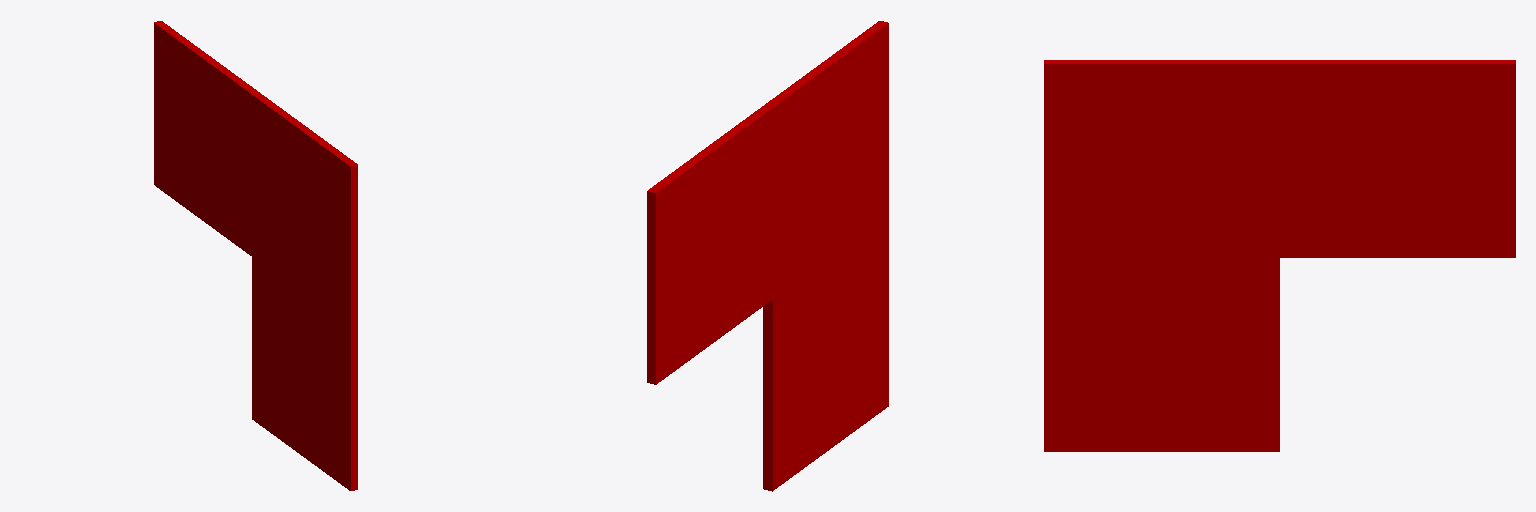
robot.urdf — xarm6:
<?xml version="1.0" encoding="utf-8"?>
<!-- =================================================================================== -->
<!-- |    This document was autogenerated by xacro from xarm6_robot.urdf.xacro         | -->
<!-- |    EDITING THIS FILE BY HAND IS NOT RECOMMENDED                                 | -->
<!-- =================================================================================== -->
<robot name="xarm6">

    <!--
      Material colors
    -->

    <!-- Basic colors -->
  <material name="Black">
    <color rgba="0.0 0.0 0.0 1.0"/>
  </material>
  <material name="Red">
    <color rgba="0.8 0.0 0.0 1.0"/>
  </material>
  <material name="White">
    <color rgba="1.0 1.0 1.0 1.0"/>
  </material>
  <material name="Silver">
    <color rgba="0.753 0.753 0.753 1.0"/>
  </material>

    <!--
    Base
  -->

  <!-- Base link -->
  <link name="world"/>
  <joint name="world_joint" type="fixed">
    <parent link="world"/>
    <child link="allegro_root0"/>
    <origin rpy="0 0 0" xyz="0 0 0"/>
  </joint>


  <link name="allegro_root0">
    <inertial>
      <origin rpy="0 0 0" xyz="0 0 0"/>
      <mass value="4.00000"/>
      <inertia ixx="1e-4" ixy="0" ixz="0" iyy="1e-4" iyz="0" izz="1e-4"/>
    </inertial>
  </link>
    <link name="allegro_root1">
    <inertial>
      <mass value="0.05"/>
      <inertia ixx="1e-4" ixy="0.0" ixz="0.0" iyy="1e-4" iyz="0.0" izz="1e-4"/>
    </inertial>
  </link>
  <link name="allegro_root2">
    <inertial>
      <mass value="0.05"/>
      <inertia ixx="1e-4" ixy="0.0" ixz="0.0" iyy="1e-4" iyz="0.0" izz="1e-4"/>
    </inertial>
  </link>
    <link name="allegro_root3">
    <inertial>
      <mass value="0.05"/>
      <inertia ixx="1e-4" ixy="0.0" ixz="0.0" iyy="1e-4" iyz="0.0" izz="1e-4"/>
    </inertial>
  </link>
  <link name="allegro_root4">
    <inertial>
      <mass value="0.05"/>
      <inertia ixx="1e-4" ixy="0.0" ixz="0.0" iyy="1e-4" iyz="0.0" izz="1e-4"/>
    </inertial>
  </link>
  <link name="allegro_root5">
    <inertial>
      <mass value="0.05"/>
      <inertia ixx="1e-4" ixy="0.0" ixz="0.0" iyy="1e-4" iyz="0.0" izz="1e-4"/>
    </inertial>
  </link>
  
  <joint name="x_joint" type="prismatic">
    <parent link="allegro_root0"/>
    <child link="allegro_root1"/>
    <axis xyz="1 0 0"/>
    <limit effort="100" lower="-50.0" upper="50.0" velocity="20"/>
  </joint>
  <joint name="y_joint" type="prismatic">
    <parent link="allegro_root1"/>
    <child link="allegro_root2"/>
    <axis xyz="0 1 0"/>
    <limit effort="100" lower="-50.0" upper="50.0" velocity="20"/>
  </joint>
  <joint name="z_joint" type="prismatic">
    <parent link="allegro_root2"/>
    <child link="allegro_root3"/>
    <axis xyz="0 0 1"/>
    <limit effort="100" lower="-50.0" upper="50.0" velocity="20"/>
  </joint>

  <joint name="x_rotation_joint" type="revolute">
    <parent link="allegro_root3"/>
    <child link="allegro_root4"/>
    <axis xyz="1 0 0"/>
    <limit effort="100" lower="-6.28" upper="6.28" velocity="20"/>
  </joint>
  <joint name="y_rotation_joint" type="revolute">
    <parent link="allegro_root4"/>
    <child link="allegro_root5"/>
    <axis xyz="0 1 0"/>
    <limit effort="100" lower="-6.28" upper="6.28" velocity="20"/>
  </joint>
  <joint name="z_rotation_joint" type="revolute">
    <parent link="allegro_root5"/>
    <child link="palm_link"/>
    <axis xyz="0 0 1"/>
    <!-- <origin rpy="-0.00000 -0.00000 0" xyz="0 0 0"/> -->
    <limit effort="100" lower="-6.28" upper="6.28" velocity="20"/>
  </joint>

  <link name="palm_link">
    <inertial>
      <mass value="0.4167"/>
      <origin rpy="0 0 0" xyz="0 0 0"/>
      <inertia ixx="1e-4" ixy="0" ixz="0" iyy="1e-4" iyz="0" izz="1e-4"/>
    </inertial>
    <visual>
      <geometry>
        <mesh filename="meshes/palm_link.obj"/>
      </geometry>
      <origin rpy="0 0 0" xyz="0 0 0 "/>
      <material name="Grey">
        <color rgba="0.2 0.2 0.2 1"/>
      </material>
    </visual>
    <collision>
      <origin rpy="0.0 0 0" xyz="0 0 0"/>
      <geometry>
        <mesh filename="meshes/palm_link.obj"/>
      </geometry>
    </collision>
  </link>

  <link name="contact_sensor1">
    <inertial>
      <mass value="0.0001"/>
      <origin rpy="0 0 0" xyz="0 0 0"/>
      <inertia ixx="1e-4" ixy="0" ixz="0" iyy="1e-4" iyz="0" izz="1e-4"/>
    </inertial>
    <visual>
      <geometry>
        <mesh filename="meshes/contact_palm.obj"/>
      </geometry>
      <origin rpy="0 0 0" xyz="0.0125 0.025 -0.065"/>
      <material name="Red">
        <color rgba="0.8 0.0 0.0 1.0"/>
      </material>
    </visual>
  </link>

  <joint name="contact_sensor1_attach" type="fixed">
    <parent link="palm_link"/>
    <child link="contact_sensor1"/>
    <origin rpy="0 0 0" xyz="0 0 0.0423"/>
  </joint>

    <link name="contact_sensor2">
    <inertial>
      <mass value="0.0001"/>
      <origin rpy="0 0 0" xyz="0 0 0"/>
      <inertia ixx="1e-4" ixy="0" ixz="0" iyy="1e-4" iyz="0" izz="1e-4"/>
    </inertial>
    <visual>
      <geometry>
        <mesh filename="meshes/contact_palm.obj"/>
      </geometry>
      <origin rpy="0 0 0" xyz="0.0125 -0.019 -0.065"/>
      <material name="Red">
        <color rgba="0.8 0.0 0.0 1.0"/>
      </material>
    </visual>
  </link>

  <joint name="contact_sensor2_attach" type="fixed">
    <parent link="palm_link"/>
    <child link="contact_sensor2"/>
    <origin rpy="0 0 0" xyz="0 0 0.0423"/>
  </joint>

    <link name="contact_sensor3">
    <inertial>
      <mass value="0.0001"/>
      <origin rpy="0 0 0" xyz="0 0 0"/>
      <inertia ixx="1e-4" ixy="0" ixz="0" iyy="1e-4" iyz="0" izz="1e-4"/>
    </inertial>
    <visual>
      <geometry>
        <mesh filename="meshes/contact_palm.obj"/>
      </geometry>
      <origin rpy="0 0 0" xyz="0.0125 -0.019 -0.105"/>
      <material name="Red">
        <color rgba="0.8 0.0 0.0 1.0"/>
      </material>
    </visual>
  </link>

  <joint name="contact_sensor3_attach" type="fixed">
    <parent link="palm_link"/>
    <child link="contact_sensor3"/>
    <origin rpy="0 0 0" xyz="0 0 0.0423"/>
  </joint>

  <!-- ============================================================================= -->
  <!-- FINGERS -->
  <!-- RIGHT HAND due to which finger is number 0 -->
  <!-- for LEFT HAND switch the sign of the **offset_origin_y** and **finger_angle_r** parameters-->
  <link name="thumb_base">
    <visual>
      <geometry>
        <mesh filename="meshes/thumb_base.STL"/>
      </geometry>
      <material name="black">
        <color rgba=".2 .2 .2 1"/>
      </material>
    </visual>
    <collision>
      <geometry>
        <mesh filename="meshes/thumb_base.STL"/>
      </geometry>
    </collision>
    <inertial>
      <mass value="0.0798"/>
      <inertia ixx="5.1458e-5" ixy="0" ixz="0" iyy="5.1458e-5" iyz="0" izz="6.125e-5"/>
    </inertial>
  </link>
  <joint name="thumb_base" type="revolute">
    <axis xyz="-1 0 0"/>
    <limit effort="15" lower="0.36" upper="1.496" velocity="7"/>
    <parent link="palm_link"/>
    <child link="thumb_base"/>
    <origin rpy="0 -1.65806278845 -1.5707963259" xyz="-0.0182 0.019333 -0.045987"/>
    <dynamics damping="0.0001" friction="0.035"/>
  </joint>
  <link name="thumb_proximal">
    <visual>
      <geometry>
        <mesh filename="meshes/thumb_proximal.STL"/>  
      </geometry>
      <material name="black">
        <color rgba=".2 .2 .2 1"/>
      </material>
    </visual>
    <collision>
      <geometry>
        <mesh filename="meshes/thumb_proximal.STL"/>  
      </geometry>
    </collision>
    <inertial>
      <mass value="0.0114"/>
      <origin rpy="0 0 0" xyz="0 0 0"/>
      <inertia ixx="4.24250866667e-06" ixy="1.032087e-06" ixz="1.603525e-06" iyy="4.52362633333e-06" iyz="1.44808125e-06" izz="4.24250866667e-06"/>
    </inertial>
  </link>
  <joint name="thumb_proximal" type="revolute">
    <axis xyz="0 0 1"/>
    <limit effort="15" lower="-0.204" upper="1.263" velocity="7"/>
    <parent link="thumb_base"/>
    <child link="thumb_proximal"/>
    <origin xyz="-0.027 0.005 0.0399"/>
      <dynamics damping="0.0001" friction="0.035"/>
  </joint>
  <!-- [LINK 14] -->
  <link name="thumb_medial">
    <visual>
      <geometry>
        <mesh filename="meshes/thumb_medial.STL"/>
      </geometry>
      <material name="black">
        <color rgba=".2 .2 .2 1"/>
      </material>
    </visual>
    <collision>
      <geometry>
        <mesh filename="meshes/thumb_medial.STL"/>
      </geometry>
    </collision>
    <inertial>
      <mass value="0.0402"/>
      <origin rpy="0 0 0" xyz="0 0 0"/>
      <inertia ixx="4.30439933333e-05" ixy="9.57068e-06" ixz="5.1205e-06" iyy="1.44451933333e-05" iyz="1.342825e-05" izz="4.30439933333e-05"/>
    </inertial>
  </link>
  <joint name="thumb_medial" type="revolute">
    <axis xyz="0 1 0"/>
    <limit effort="15" lower="-0.289" upper="1.744" velocity="7"/>
    <parent link="thumb_proximal"/>
    <child link="thumb_medial"/>
    <origin xyz="0 0 0.0177"/>
      <dynamics damping="0.0001" friction="0.035"/>
  </joint>
  <!-- [LINK 15] -->
  <link name="thumb_distal">
    <visual>
      <geometry>
        <mesh filename="meshes/thumb_distal.STL"/>
      </geometry>
      <material name="black">
        <color rgba=".2 .2 .2 1"/>
      </material>
    </visual>
    <collision>
      <geometry>
        <mesh filename="meshes/thumb_distal.STL"/>
      </geometry>
    </collision>
    <inertial>
      <mass value="0.0408"/>
      <origin rpy="0 0 0" xyz="0 0 0"/>
      <inertia ixx="3.29223173333e-05" ixy="8.042076e-06" ixz="5.2283e-06" iyy="1.47493026667e-5" iyz="1.1283525e-5" izz="3.29223173333e-05"/>
    </inertial>
  </link>
  <joint name="thumb_distal" type="revolute">
    <axis xyz="0 1 0"/>
    <limit effort="15" lower="-0.26" upper="1.819" velocity="7"/>
    <parent link="thumb_medial"/>
    <child link="thumb_distal"/>
    <origin xyz="0 0 0.0514"/>
      <dynamics damping="0.0001" friction="0.035"/>
  </joint>
  <!-- [FINGER TIP] -->
  <link name="thumb_tip">
    <visual>
      <geometry>
        <mesh filename="meshes/thumb_tip.STL"/>
      </geometry>
      <material name="white">
        <color rgba=".9 .9 .9 1"/>
      </material>
    </visual>
    <collision>
      <geometry>
        <sphere radius="0.0145"/>
      </geometry>
    </collision>
    <inertial>
      <mass value="0.0166"/>
      <origin rpy="0 0 0" xyz="0 0 0"/>
      <inertia ixx="9.68e-07" ixy="0" ixz="0" iyy="9.68e-07" iyz="0" izz="9.68e-07"/>
    </inertial>
  </link>
  <joint name="thumb_tip" type="fixed">
    <parent link="thumb_distal"/>
    <child link="thumb_tip"/>
    <origin rpy="0 0 0" xyz="0 0 0.0423"/>
  </joint>
  <link name="index_base">
    <visual>
      <geometry>
        <mesh filename="meshes/primary_base.STL"/>
      </geometry>
      <material name="black"/>
    </visual>
    <collision>
      <geometry>
        <mesh filename="meshes/primary_base.STL"/>
      </geometry>
    </collision>
    <inertial>
      <mass value="0.0114"/>
      <origin xyz="0 0 0"/>
      <inertia ixx="5.1458e-05" iyy="5.1458e-05" izz="6.125e-05" ixy="0" ixz="0" iyz="0"/>	
    </inertial>
  </link>
  <joint name="index_base" type="revolute">
    <axis xyz="0 0 1"/>
    <limit effort="15" lower="-0.57" upper="0.57" velocity="7"/>
    <parent link="palm_link"/>
    <child link="index_base"/>
    <origin rpy="-0.08726646255 0 0" xyz="0 0.0435 -0.001542"/> 
      <dynamics damping="0.0001" friction="0.035"/>
  </joint>
  <!-- [LINK 1, 5, 9] -->
  <link name="index_proximal">
    <visual>
      <geometry>
        <mesh filename="meshes/primary_proximal.STL"/>
      </geometry>
      <material name="black"/>
    </visual>
    <collision>
      <geometry>
        <mesh filename="meshes/primary_proximal.STL"/>
      </geometry>
      <origin rpy="0 0 0" xyz="0 0 0.027"/>
    </collision>
    <inertial>
      <mass value="0.0712"/>
      <origin xyz="0.027 0 0"/>
      <inertia ixx="6.39979e-06" iyy="8.88687e-05" izz="9.13751e-05" ixy="-3.26531e-06" ixz="1.23963e-05" iyz="2.07384e-05"/>	
    </inertial>
  </link>
  <joint name="index_proximal" type="revolute">
    <limit effort="15" lower="-0.296" upper="1.71" velocity="7"/>
    <axis xyz="0 1 0"/>
    <parent link="index_base"/>
    <child link="index_proximal"/>
    <origin xyz="0 0 0.0164"/>
      <dynamics damping="0.0001" friction="0.035"/>
  </joint>
  <!-- [LINK 2, 6, 10]-->
  <link name="index_medial">
    <visual>
      <geometry>
        <mesh filename="meshes/primary_medial.STL"/>
      </geometry>
      <material name="black"/>
    </visual>
    <collision>
      <geometry>
        <mesh filename="meshes/primary_medial.STL"/>
      </geometry>
    </collision>
    <inertial>
      <mass value="0.0376"/>
      <origin xyz="0.039 0 0"/>
      <inertia ixx="7.04217e-05" iyy="3.95744e-05" izz="6.61125e-05" ixy="-9.64342e-05" ixz="5.8796e-05" iyz="-3.62996e-05"/>	
    </inertial>
  </link>
  <joint name="index_medial" type="revolute">
    <axis xyz="0 1 0"/>
    <limit effort="15" lower="-0.274" upper="1.809" velocity="7"/>
    <parent link="index_proximal"/>
    <child link="index_medial"/>
    <origin xyz="0 0 0.054"/>
      <dynamics damping="0.0001" friction="0.035"/>
  </joint>
  <link name="index_distal">
    <visual>
      <geometry>
        <mesh filename="meshes/primary_distal.STL"/>
      </geometry>
      <material name="black"/>
    </visual>
    <collision>
      <geometry>
        <mesh filename="meshes/primary_distal.STL"/>
      </geometry>
    </collision>
    <inertial>
      <mass value="0.0094"/>
      <origin xyz="0.039 0 0"/>
      <inertia ixx="7.04217e-05" iyy="3.95744e-05" izz="6.61125e-05" ixy="-9.64342e-05" ixz="5.8796e-05" iyz="-3.62996e-05"/>	
    </inertial>
  </link>
  <joint name="index_distal" type="revolute">
    <axis xyz="0 1 0"/>
    <limit effort="15" lower="-0.327" upper="1.718" velocity="7"/>
    <parent link="index_medial"/>
    <child link="index_distal"/>
    <origin xyz="0 0 0.0384"/>
      <dynamics damping="0.0001" friction="0.035"/>
  </joint>
  <!-- [FINGER TIP] -->
  <link name="index_tip">
    <visual>
      <geometry>
        <mesh filename="meshes/primary_tip.STL"/>
      </geometry>
      <material name="white">
        <color rgba=".9 .9 .9 1"/>
      </material>
    </visual>
    <collision>
      <geometry>
        <sphere radius="0.015"/>  
      </geometry>
    </collision>
    <inertial>
      <mass value="0.0166"/>
      <origin rpy="0 0 0" xyz="0 0 0"/>
      <inertia ixx="9.68e-07" ixy="0" ixz="0" iyy="9.68e-07" iyz="0" izz="9.68e-07"/>
    </inertial>
  </link>  <!-- need to be fixed later-->
  <joint name="index_tip" type="fixed">
    <parent link="index_distal"/>
    <child link="index_tip"/>
    <origin rpy="0 0 0" xyz="0 0 0.0267"/>
  </joint>
  <!-- [LINK 0, 4, 8] -->
  <link name="middle_base">
    <visual>
      <geometry>
        <mesh filename="meshes/primary_base.STL"/>
      </geometry>
      <material name="black"/>
    </visual>
    <collision>
      <geometry>
        <mesh filename="meshes/primary_base.STL"/>
      </geometry>
    </collision>
    <inertial>
      <mass value="0.0114"/>
      <origin xyz="0 0 0"/>
      <inertia ixx="5.1458e-05" iyy="5.1458e-05" izz="6.125e-05" ixy="0" ixz="0" iyz="0"/>	
    </inertial>
  </link>
  <joint name="middle_base" type="revolute">
    <axis xyz="0 0 1"/>
    <limit effort="15" lower="-0.57" upper="0.57" velocity="7"/>
    <parent link="palm_link"/>
    <child link="middle_base"/>
    <dynamics damping="0.0414019" friction="0.0523963"/>
  </joint>
  <!-- [LINK 1, 5, 9] -->
  <link name="middle_proximal">
    <visual>
      <geometry>
        <mesh filename="meshes/primary_proximal.STL"/>
      </geometry>
      <material name="black"/>
    </visual>
    <collision>
      <geometry>
        <mesh filename="meshes/primary_proximal.STL"/>
      </geometry>
    </collision>
    <inertial>
      <mass value="0.0712"/>
      <origin xyz="0.027 0 0"/>
      <inertia ixx="6.39979e-06" iyy="8.88687e-05" izz="9.13751e-05" ixy="-3.26531e-06" ixz="1.23963e-05" iyz="2.07384e-05"/>	
    </inertial>
  </link>
  <joint name="middle_proximal" type="revolute">
    <limit effort="15" lower="-0.296" upper="1.71" velocity="7"/>
    <axis xyz="0 1 0"/>
    <parent link="middle_base"/>
    <child link="middle_proximal"/>
    <origin xyz="0 0 0.0164"/>
      <dynamics damping="0.0001" friction="0.035"/>
  </joint>
  <!-- [LINK 2, 6, 10]-->
  <link name="middle_medial">
    <visual>
      <geometry>
        <mesh filename="meshes/primary_medial.STL"/>
      </geometry>
      <material name="black"/>
    </visual>
    <collision>
      <geometry>
        <mesh filename="meshes/primary_medial.STL"/>
      </geometry>
    </collision>
    <inertial>
      <mass value="0.0376"/>
      <origin xyz="0.039 0 0"/>
      <inertia ixx="7.04217e-05" iyy="3.95744e-05" izz="6.61125e-05" ixy="-9.64342e-05" ixz="5.8796e-05" iyz="-3.62996e-05"/>	
    </inertial>
  </link>
  <joint name="middle_medial" type="revolute">
    <axis xyz="0 1 0"/>
    <limit effort="15" lower="-0.274" upper="1.809" velocity="7"/>
    <parent link="middle_proximal"/>
    <child link="middle_medial"/>
    <origin xyz="0 0 0.054"/>
      <dynamics damping="0.0001" friction="0.035"/>
  </joint>
  <!-- [LINK 3, 7, 11] -->
  <link name="middle_distal">
    <visual>
      <geometry>
        <mesh filename="meshes/primary_distal.STL"/>
      </geometry>
      <material name="black"/>
    </visual>
    <collision>
      <geometry>
        <mesh filename="meshes/primary_distal.STL"/>
      </geometry>
    </collision>
    <inertial>
      <mass value="0.0094"/>
      <origin rpy="0 0 0" xyz="0 0 0"/>
      <inertia ixx="4.701248e-06" ixy="1.255968e-06" ixz="1.2936e-06" iyy="3.649312e-06" iyz="1.7622e-06" izz="4.701248e-06"/>
    </inertial>
  </link>
  <joint name="middle_distal" type="revolute">
    <axis xyz="0 1 0"/>
    <limit effort="15" lower="-0.327" upper="1.718" velocity="7"/>
    <parent link="middle_medial"/>
    <child link="middle_distal"/>
    <origin xyz="0 0 0.0384"/>
      <dynamics damping="0.0001" friction="0.035"/>
  </joint>
  <link name="middle_tip">
    <visual>
      <geometry>
        <mesh filename="meshes/primary_tip.STL"/>
      </geometry>
      <material name="white">
        <color rgba=".9 .9 .9 1"/>
      </material>
    </visual>
    <collision>
      <geometry>
        <sphere radius="0.015"/>  
      </geometry>
    </collision>
    <inertial>
      <mass value="0.0166"/>
      <origin rpy="0 0 0" xyz="0 0 0"/>
      <inertia ixx="9.68e-07" ixy="0" ixz="0" iyy="9.68e-07" iyz="0" izz="9.68e-07"/>
    </inertial>
  </link>
  <joint name="middle_tip" type="fixed">
    <parent link="middle_distal"/>
    <child link="middle_tip"/>
    <origin rpy="0 0 0" xyz="0 0 0.0267"/>
  </joint>
  <!-- [LINK 0, 4, 8] -->
  <link name="ring_base">
    <visual>
      <geometry>
        <mesh filename="meshes/primary_base.STL"/>
      </geometry>
      <material name="black"/>
    </visual>
    <collision>
      <geometry>
        <mesh filename="meshes/primary_base.STL"/>
      </geometry>
    </collision>
    <inertial>
      <mass value="0.0114"/>
      <origin xyz="0 0 0"/>
      <inertia ixx="5.1458e-05" iyy="5.1458e-05" izz="6.125e-05" ixy="0" ixz="0" iyz="0"/>	
    </inertial>
  </link>
  <joint name="ring_base" type="revolute">
    <axis xyz="0 0 1"/>
    <limit effort="15" lower="-0.57" upper="0.57" velocity="7"/>
    <parent link="palm_link"/>
    <child link="ring_base"/>
    <origin rpy="0.08726646255 0 0" xyz="0 -0.0435 -0.001542"/>
      <dynamics damping="0.0001" friction="0.035"/>
  </joint>
  <!-- [LINK 1, 5, 9] -->
  <link name="ring_proximal">
    <visual>
      <geometry>
        <mesh filename="meshes/primary_proximal.STL"/>
      </geometry>
      <material name="black"/>
    </visual>
    <collision>
      <geometry>
        <mesh filename="meshes/primary_proximal.STL"/>
      </geometry>
    </collision>
    <inertial>
      <mass value="0.0712"/>
      <origin xyz="0.027 0 0"/>
      <inertia ixx="6.39979e-06" iyy="8.88687e-05" izz="9.13751e-05" ixy="-3.26531e-06" ixz="1.23963e-05" iyz="2.07384e-05"/>	
    </inertial>
  </link>
  <joint name="ring_proximal" type="revolute">
    <limit effort="15" lower="-0.296" upper="1.71" velocity="7"/>
    <axis xyz="0 1 0"/>
    <parent link="ring_base"/>
    <child link="ring_proximal"/>
    <origin xyz="0 0 0.0164"/>
      <dynamics damping="0.0001" friction="0.035"/>
  </joint>
  <!-- [LINK 2, 6, 10]-->
  <link name="ring_medial">
    <visual>
      <geometry>
        <mesh filename="meshes/primary_medial.STL"/>
      </geometry>
      <material name="black"/>
    </visual>
    <collision>
      <geometry>
        <mesh filename="meshes/primary_medial.STL"/>
      </geometry>
    </collision>
    <inertial>
      <mass value="0.0376"/>
      <origin xyz="0.039 0 0"/>
      <inertia ixx="7.04217e-05" iyy="3.95744e-05" izz="6.61125e-05" ixy="-9.64342e-05" ixz="5.8796e-05" iyz="-3.62996e-05"/>	
    </inertial>
  </link>
  <joint name="ring_medial" type="revolute">
    <axis xyz="0 1 0"/>
    <limit effort="15" lower="-0.274" upper="1.809" velocity="7"/>
    <parent link="ring_proximal"/>
    <child link="ring_medial"/>
    <origin xyz="0 0 0.054"/>
      <dynamics damping="0.0001" friction="0.035"/>
  </joint>
  <!-- [LINK 3, 7, 11] -->
  <link name="ring_distal">
    <visual>
      <geometry>
        <mesh filename="meshes/primary_distal.STL"/>
      </geometry>
      <material name="black"/>
    </visual>
    <collision>
      <geometry>
        <mesh filename="meshes/primary_distal.STL"/>
      </geometry>
    </collision>
    <inertial>
      <mass value="0.0094"/>
      <origin rpy="0 0 0" xyz="0 0 0"/>
      <inertia ixx="4.701248e-06" ixy="1.255968e-06" ixz="1.2936e-06" iyy="3.649312e-06" iyz="1.7622e-06" izz="4.701248e-06"/>
    </inertial>
  </link>
  <joint name="ring_distal" type="revolute">
    <axis xyz="0 1 0"/>
    <limit effort="15" lower="-0.327" upper="1.718" velocity="7"/>
    <parent link="ring_medial"/>
    <child link="ring_distal"/>
    <origin xyz="0 0 0.0384"/>
      <dynamics damping="0.0001" friction="0.035"/>
  </joint>
  <!-- [FINGER TIP] -->
  <link name="ring_tip">
    <visual>
      <geometry>
        <mesh filename="meshes/primary_tip.STL"/>
      </geometry>
      <material name="white">
        <color rgba=".9 .9 .9 1"/>
      </material>
    </visual>
    <collision>
      <geometry>
        <sphere radius="0.015"/> 
      </geometry>
    </collision>
    <inertial>
      <mass value="0.0166"/>
      <origin rpy="0 0 0" xyz="0 0 0"/>
      <inertia ixx="9.68e-07" ixy="0" ixz="0" iyy="9.68e-07" iyz="0" izz="9.68e-07"/>
    </inertial>
  </link>
  <joint name="ring_tip" type="fixed">
    <parent link="ring_distal"/>
    <child link="ring_tip"/>
    <origin rpy="0 0 0" xyz="0 0 0.0267"/>
  </joint>
  <!-- THUMB -->
  <!-- [LINK 12] -->
</robot>

--- Facts derived from the render (not from the file) ---
The picture shows the robot from 3 angles, left to right: view 1: azimuth 30°, elevation 25°; view 2: azimuth 150°, elevation 25°; view 3: azimuth 270°, elevation 25°; orthographic projection.
Model xarm6 with 31 links and 30 joints (19 revolute, 3 prismatic, 8 fixed), rooted at world, posed joints at zero except 1 at the middle of their limits (thumb_base = 0.928).
Links seen in each view (by area): view 1: contact_sensor2, contact_sensor3, contact_sensor1; view 2: contact_sensor1, contact_sensor3, contact_sensor2; view 3: contact_sensor1, contact_sensor2, contact_sensor3.
Boxes of the visible links, bbox=[...] form: contact_sensor2: bbox=[252, 93, 357, 328]; contact_sensor3: bbox=[252, 257, 357, 490]; contact_sensor1: bbox=[154, 21, 259, 255]; contact_sensor1: bbox=[647, 106, 772, 384]; contact_sensor3: bbox=[763, 215, 888, 491]; contact_sensor2: bbox=[764, 21, 888, 298]; contact_sensor1: bbox=[1280, 60, 1515, 257]; contact_sensor2: bbox=[1044, 60, 1279, 257]; contact_sensor3: bbox=[1044, 258, 1279, 451].
Bounding box of the posed robot: 0.002 × 0.088 × 0.08 m (x, y, z).
Meshes: 12 distinct files referenced, 3 mesh visuals loaded (1 OBJ); not drawn: 21 (reference not matched to a file when rendering).